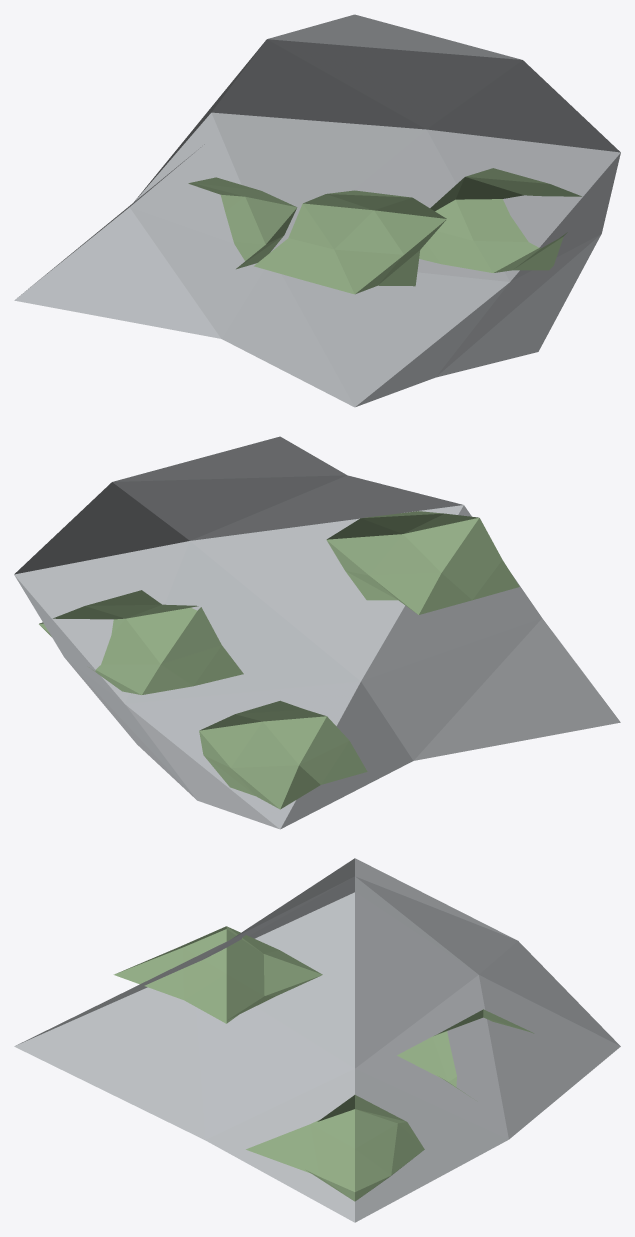
The model's file is moss_rock_v31.glb.
3 views of the same model, one above another, from view 1: azimuth 30°, elevation 25°; view 2: azimuth 150°, elevation 25°; view 3: azimuth 270°, elevation 25° (orthographic). The views are drawn at different scales.
Visible parts, largest first — view 1: lod0; view 2: lod0; view 3: lod0.
Boxes of the visible parts, box(x1,y1,x2,y2) form: lod0: box(14, 14, 620, 407); lod0: box(14, 436, 620, 829); lod0: box(14, 858, 620, 1222).
Size of what is drawn, in the model's own units: 0.9864 by 0.6104 by 0.9206.
